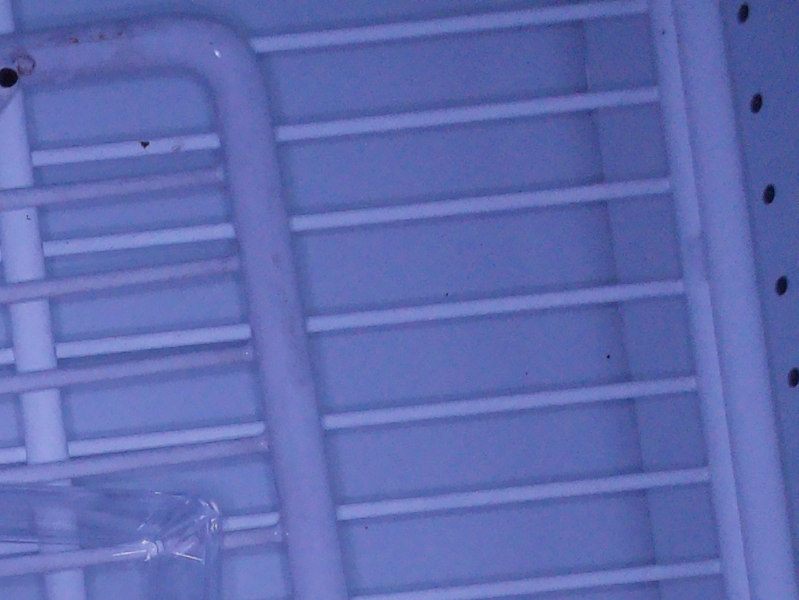plate: (1, 480, 228, 600)
